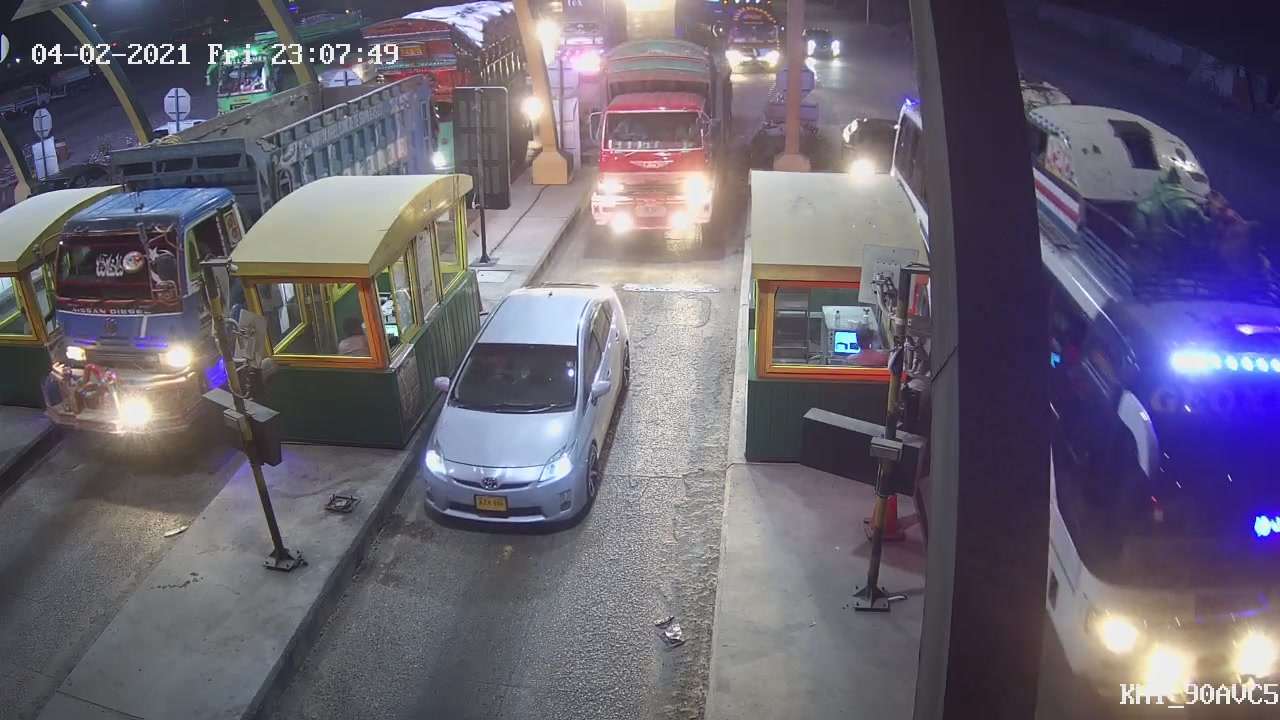F1: (418, 273, 632, 536)
F5: (575, 45, 733, 248)
